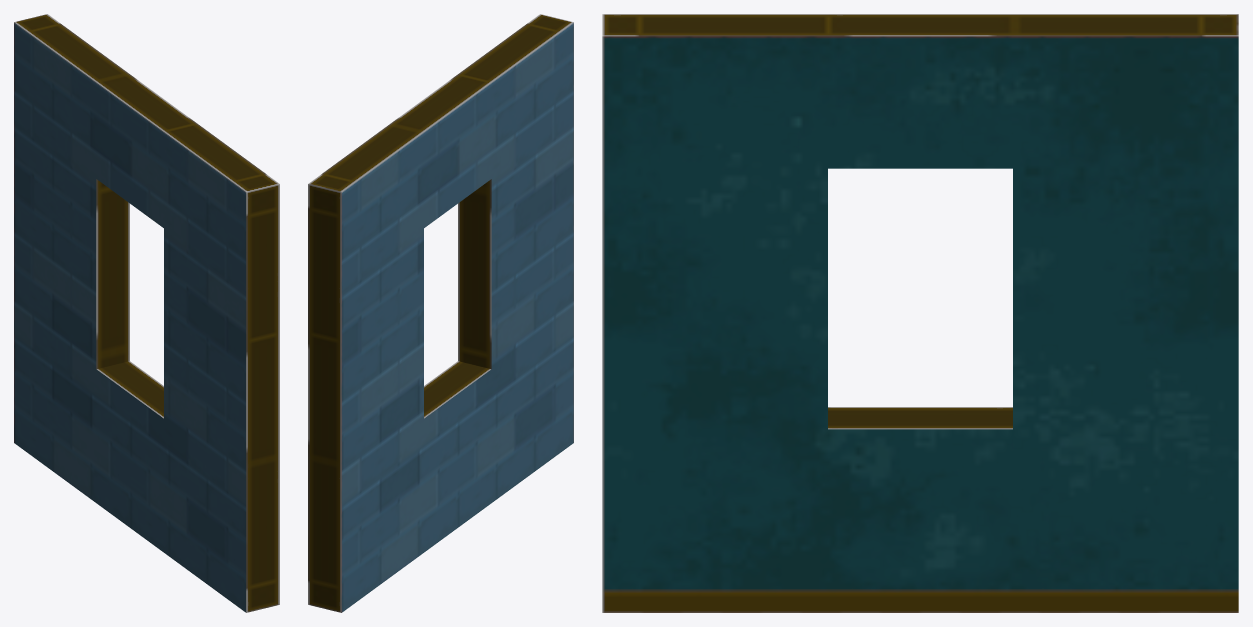
Rendered from Wall_Window_05.fbx.
3 renders of one model, left to right at view 1: azimuth 30°, elevation 25°; view 2: azimuth 150°, elevation 25°; view 3: azimuth 270°, elevation 25°, orthographic. The views are drawn at different scales.
Visible parts, largest first — view 1: Wall_Window_05; view 2: Wall_Window_05; view 3: Wall_Window_05.
Boxes of the visible parts, x1=… form: Wall_Window_05: x1=14, y1=14, x2=279, y2=612; Wall_Window_05: x1=308, y1=14, x2=573, y2=612; Wall_Window_05: x1=602, y1=14, x2=1238, y2=612.
Bounding box in the file's own units: 50 × 600 × 600.
